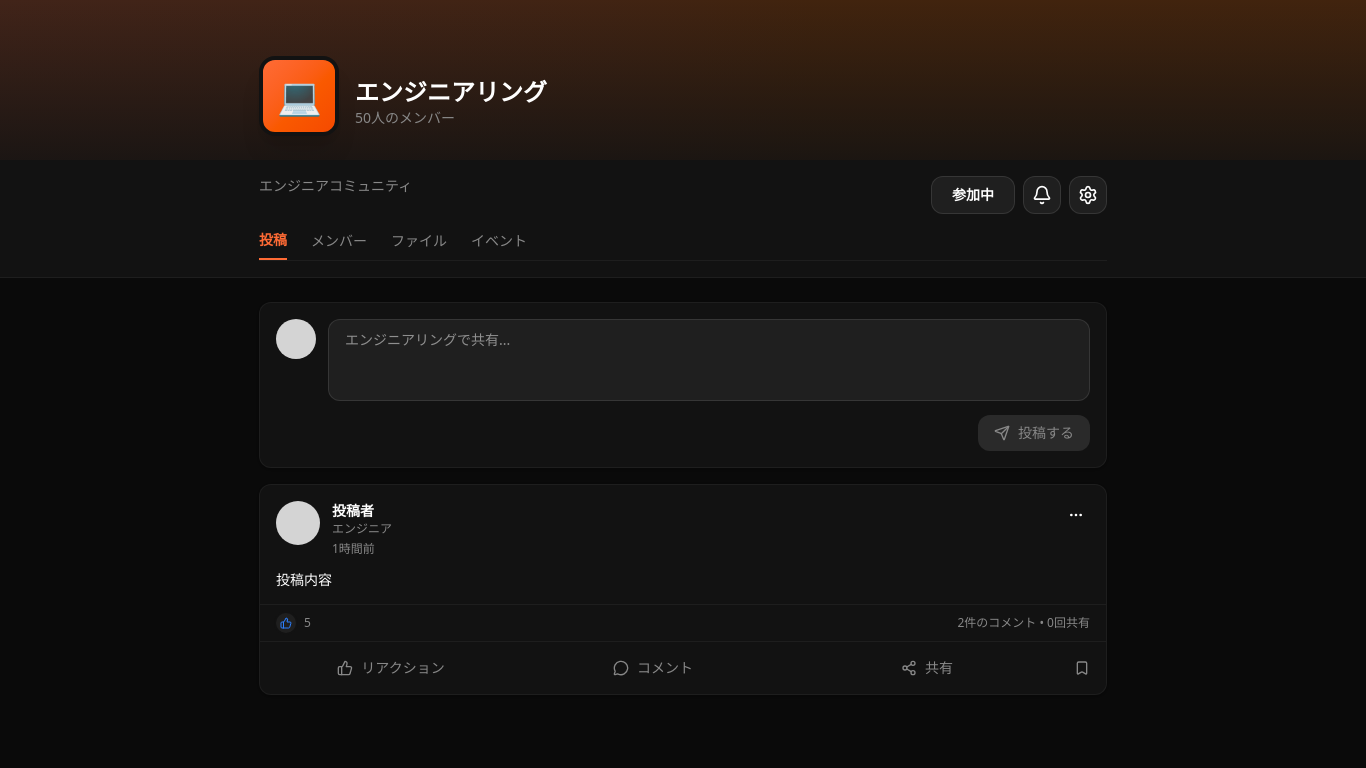
Test: Comments / CreateReply › should not show reply button for replies (1-level nesting only)
The image size is (1366, 768).
Note: Expand comments
Click the button "コメント" at [653, 668], box [518, 650, 788, 686]
(page scrolled)
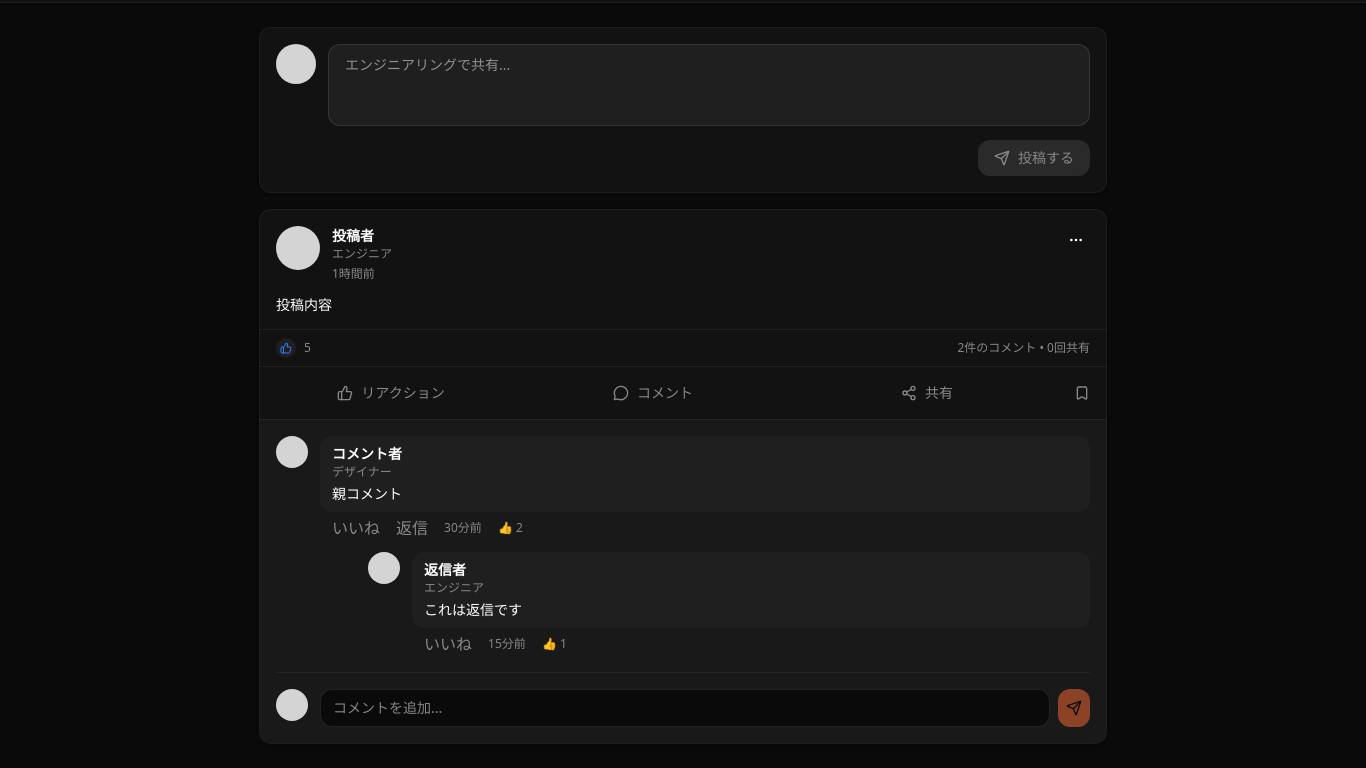
Check: the text "これは返信です" is shown, box [424, 600, 522, 619]
Check: the number of buttons "返信" is 1, box [396, 516, 428, 540]
